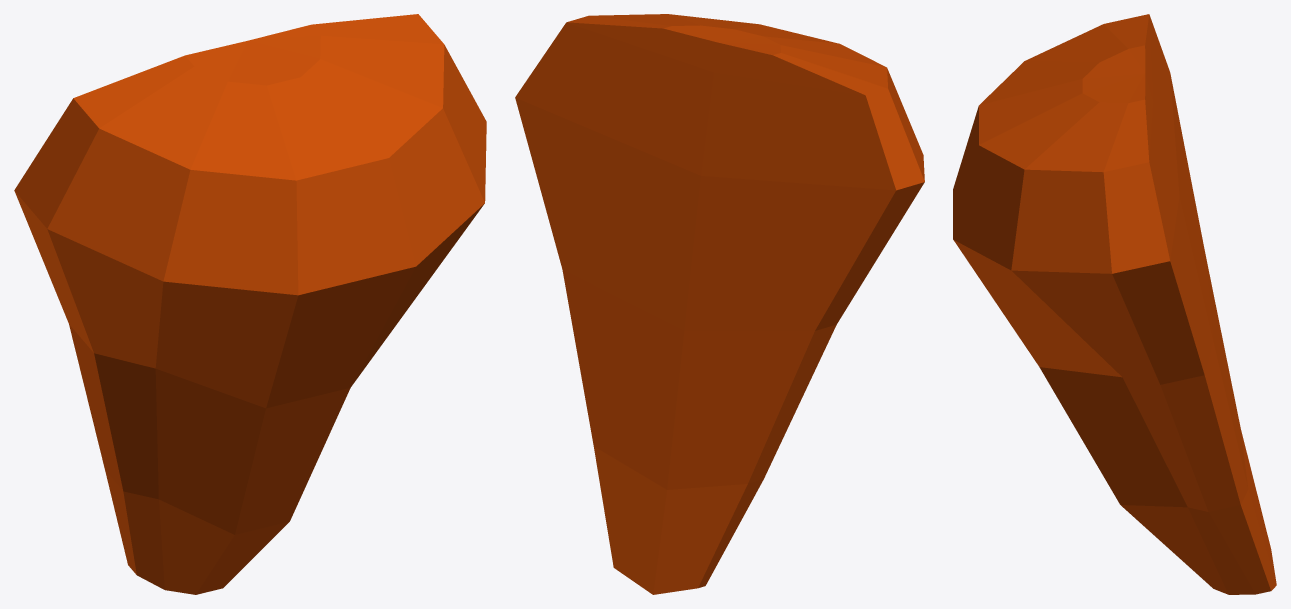
Rendered from item-nose.obj.
The picture shows the model from 3 angles, left to right: view 1: azimuth 30°, elevation 25°; view 2: azimuth 150°, elevation 25°; view 3: azimuth 270°, elevation 25°; orthographic projection. The views are drawn at different scales.
Visible parts, largest first — view 1: nose; view 2: nose; view 3: nose.
Part boxes in pixels (bbox=[...]): nose: bbox=[14, 14, 486, 594]; nose: bbox=[515, 14, 924, 594]; nose: bbox=[953, 14, 1276, 594].
Size of the model in its own units: 0.4416 by 0.5596 by 0.32.
